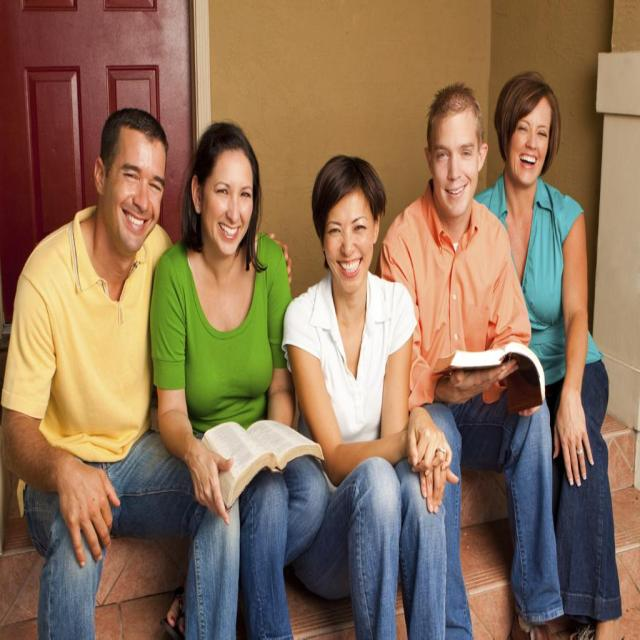Face: (106, 126, 167, 256), (426, 105, 483, 226), (324, 182, 380, 296), (205, 143, 256, 266), (506, 91, 560, 194)
